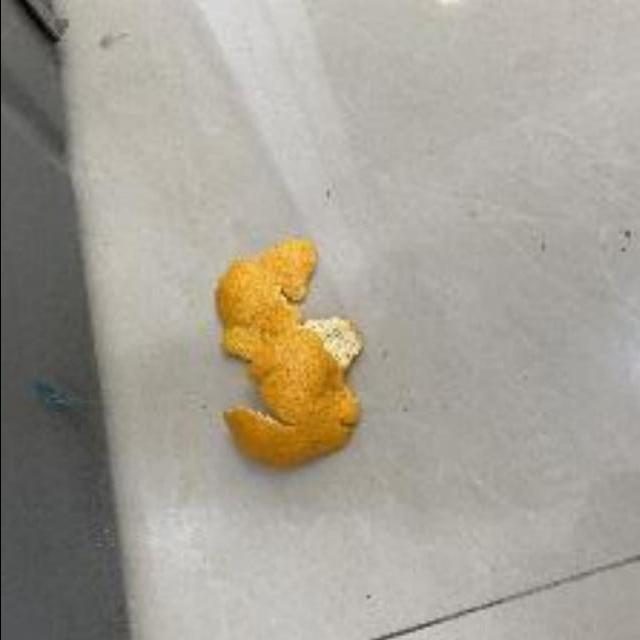orange peel: (210, 233, 380, 468)
